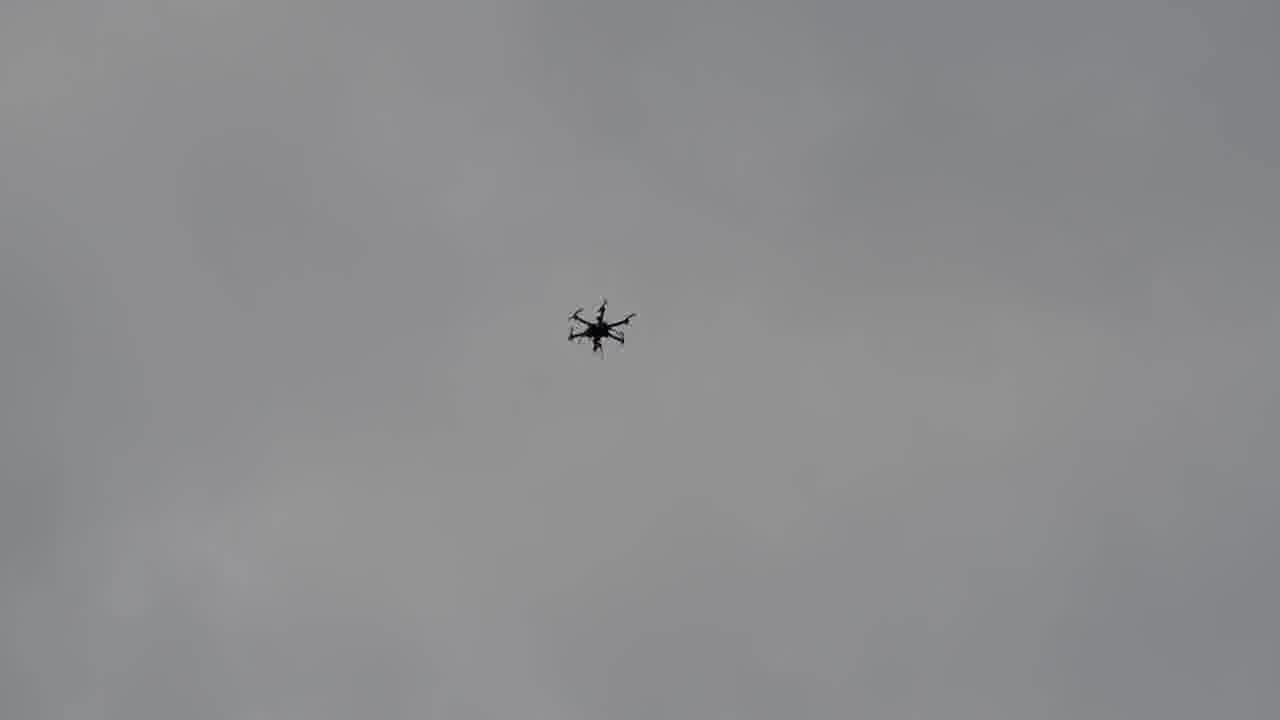drone: (563, 294, 638, 360)
